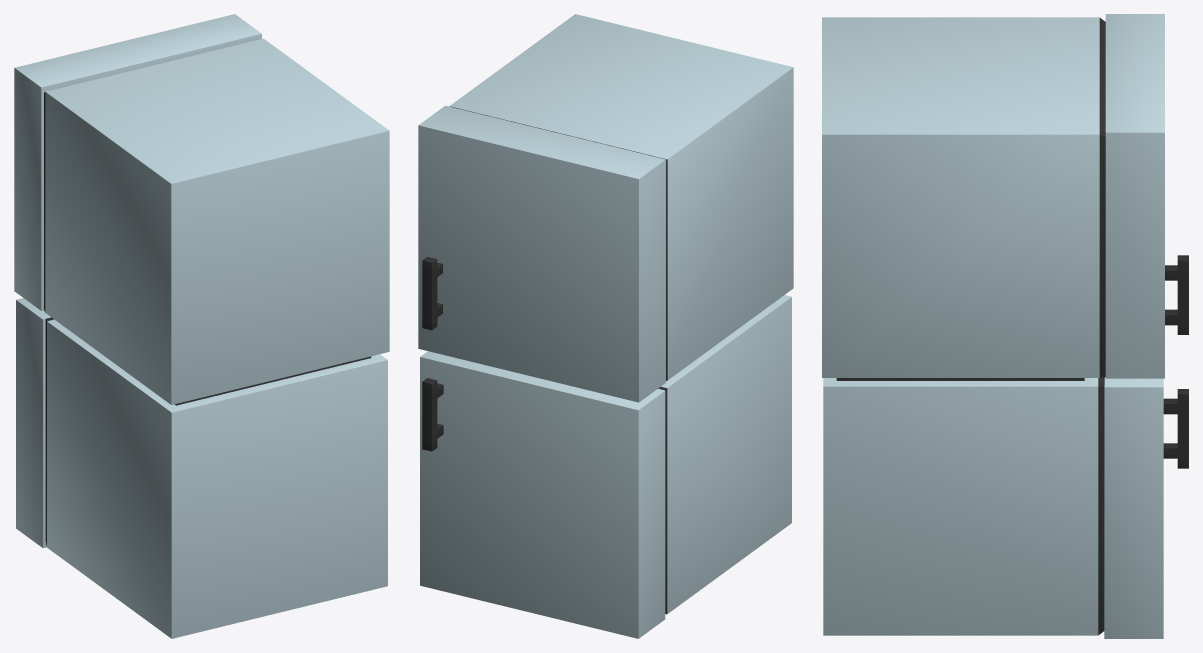
Rendered from Refrigerador.fbx.
3 renders of one model, left to right at view 1: azimuth 30°, elevation 25°; view 2: azimuth 150°, elevation 25°; view 3: azimuth 270°, elevation 25°, orthographic. The views are drawn at different scales.
Parts seen in each view (by area): view 1: Cube; view 2: Cube; view 3: Cube.
Boxes of the visible parts, <box> form: Cube: <box>14,14,389,638</box>; Cube: <box>418,14,793,638</box>; Cube: <box>822,14,1188,638</box>.
Size of the model in its own units: 204 by 407 by 267.
